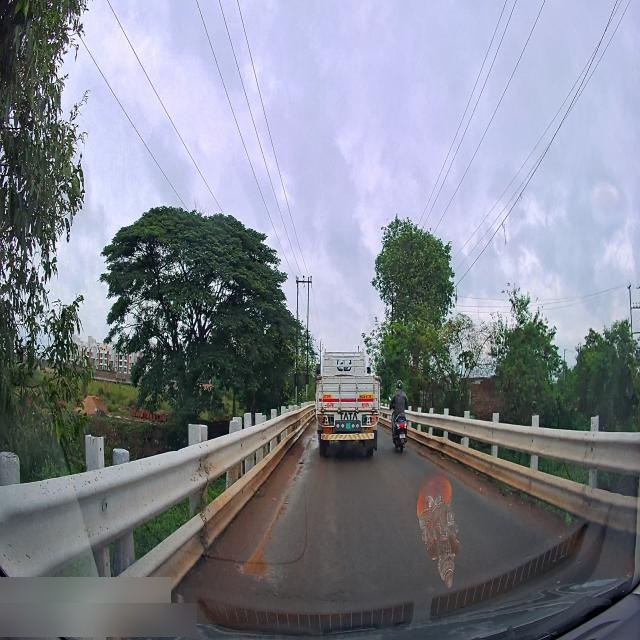pothole: (246, 540, 267, 574)
